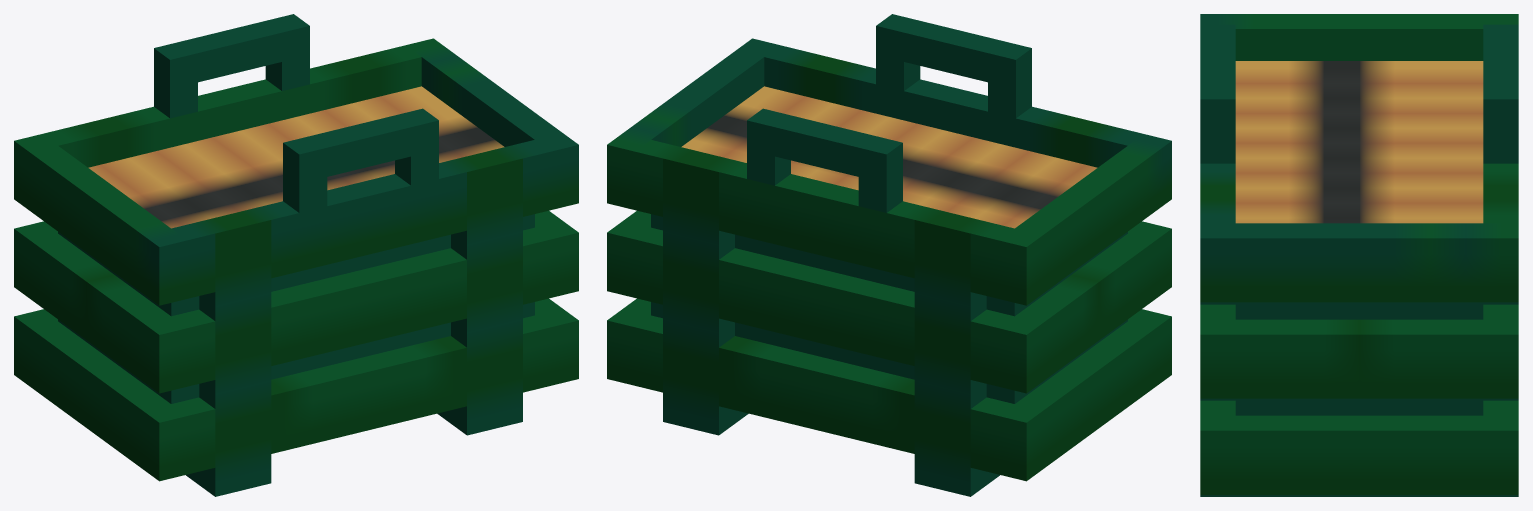
File: Gun_AmmosA_00.fbx
3 views of the same model, side by side, from view 1: azimuth 30°, elevation 25°; view 2: azimuth 150°, elevation 25°; view 3: azimuth 270°, elevation 25° (orthographic). The views are drawn at different scales.
Parts seen in each view (by area): view 1: Gun_AmmosA_00; view 2: Gun_AmmosA_00; view 3: Gun_AmmosA_00.
Boxes of the visible parts, <box> form: Gun_AmmosA_00: <box>14,14,578,496</box>; Gun_AmmosA_00: <box>607,14,1171,496</box>; Gun_AmmosA_00: <box>1200,14,1518,496</box>.
Bounding box in the file's own units: 75 × 55 × 45.
